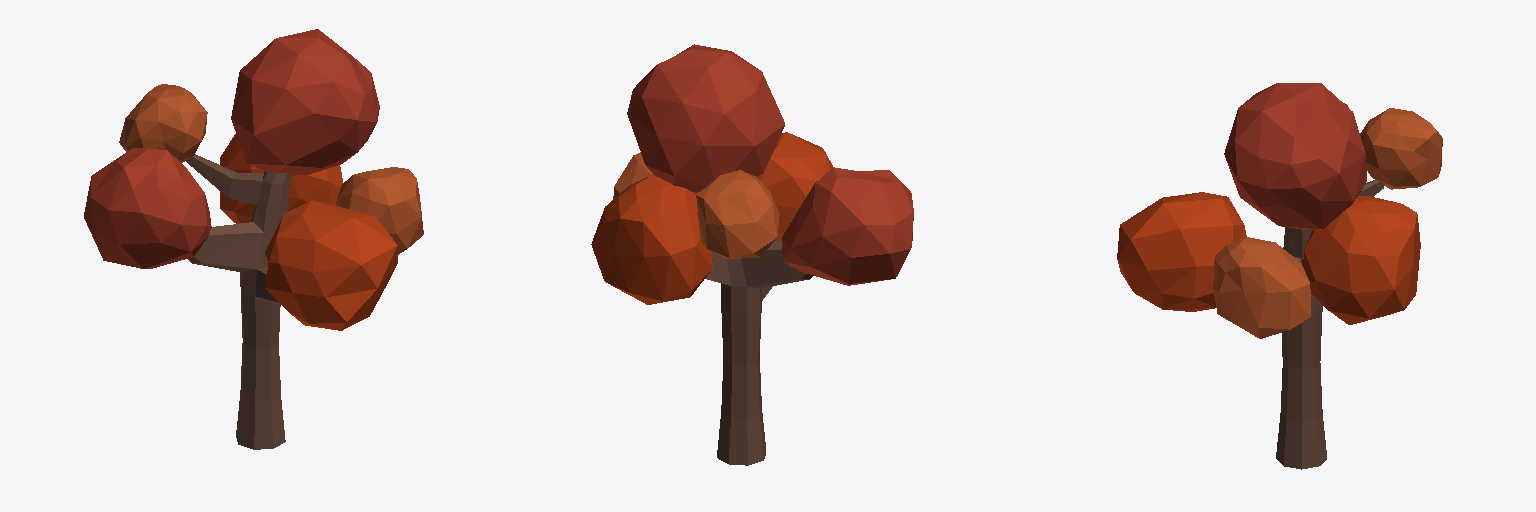
The picture shows the model from 3 angles: view 1: azimuth 30°, elevation 25°; view 2: azimuth 150°, elevation 25°; view 3: azimuth 270°, elevation 25°; orthographic projection.
Visible parts, largest first — view 1: Broad_deciduous_tree_red_leaves; view 2: Broad_deciduous_tree_red_leaves; view 3: Broad_deciduous_tree_red_leaves.
Boxes of the visible parts, x1,y1,x2,y2 form: Broad_deciduous_tree_red_leaves: [84, 29, 423, 449]; Broad_deciduous_tree_red_leaves: [591, 44, 913, 465]; Broad_deciduous_tree_red_leaves: [1117, 83, 1442, 469].
Bounding box in the file's own units: 2.32 × 2.81 × 2.13.
Materials: 1 (1 with a texture image).